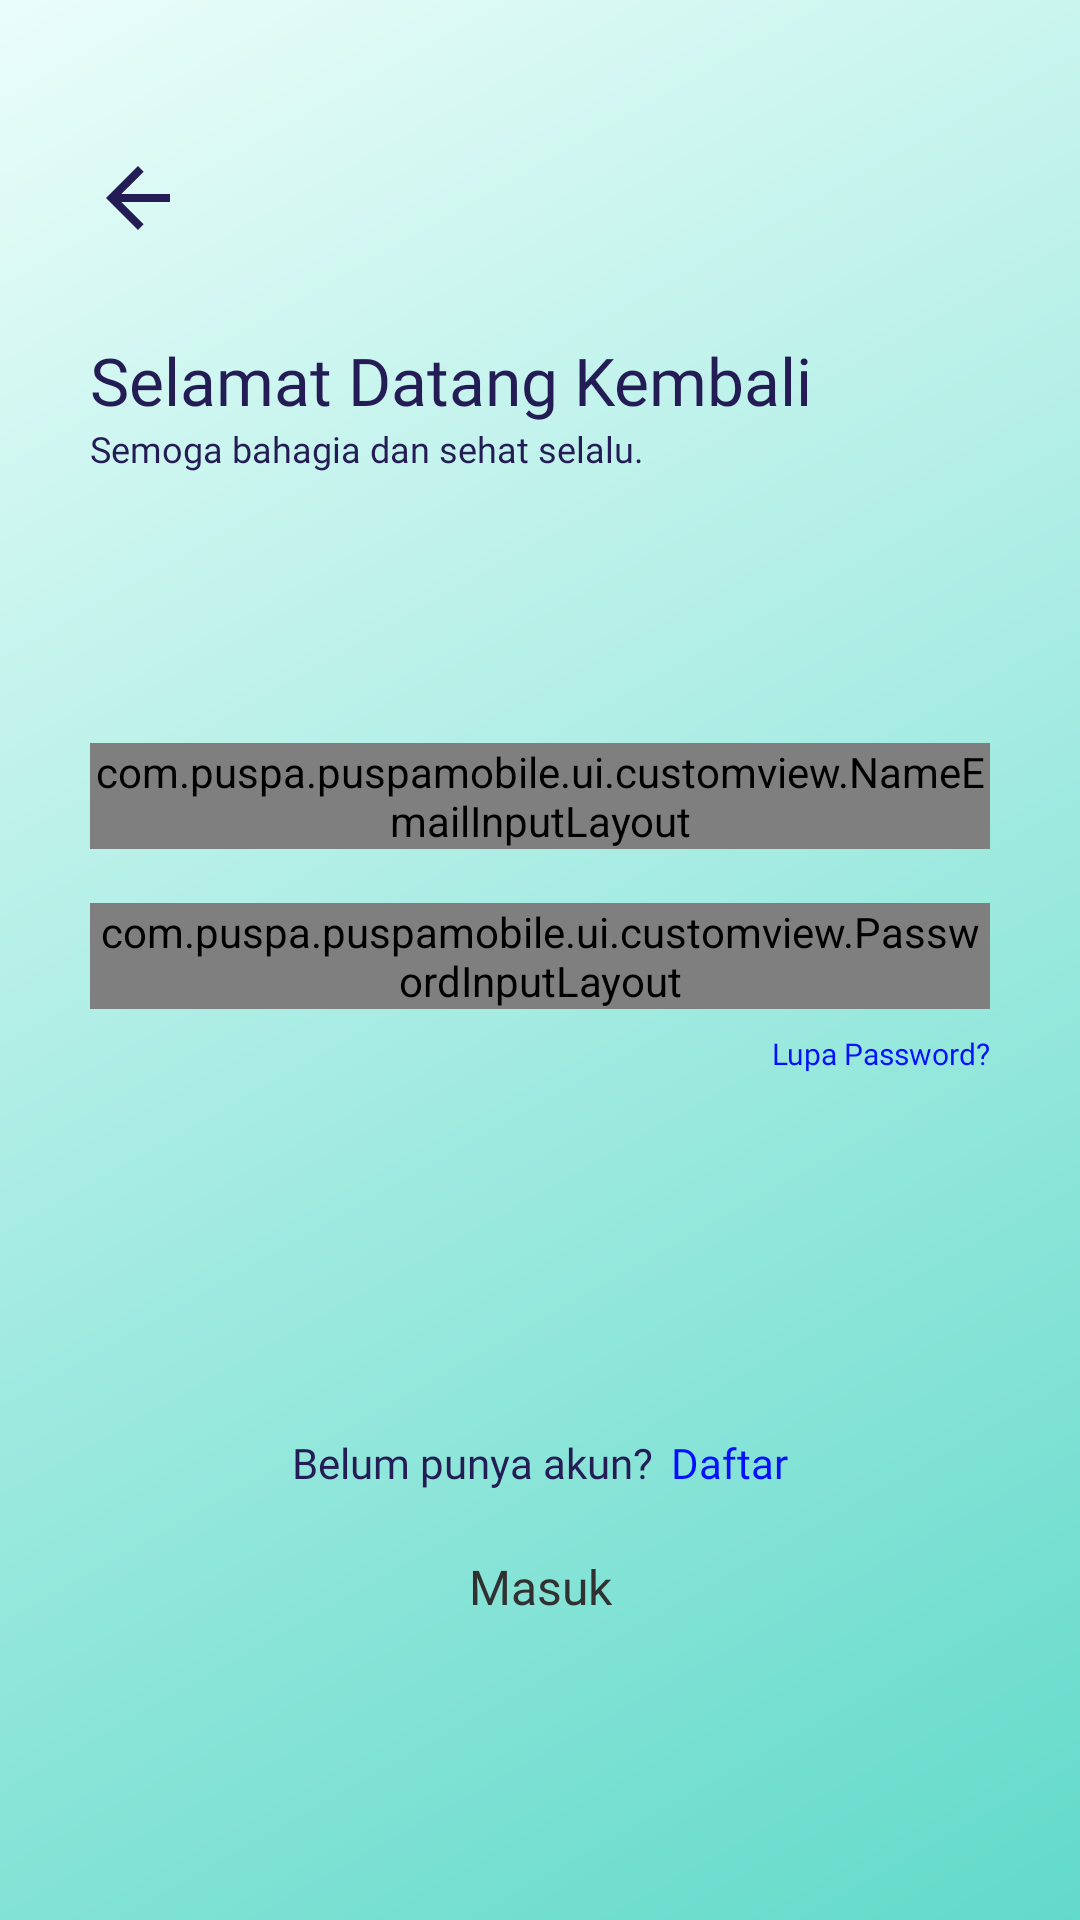

Icons on this 1080×1920 Android screen, each with its box as bbox(x1, y1, x2, y2):
arrow back: bbox(106, 166, 170, 230)
